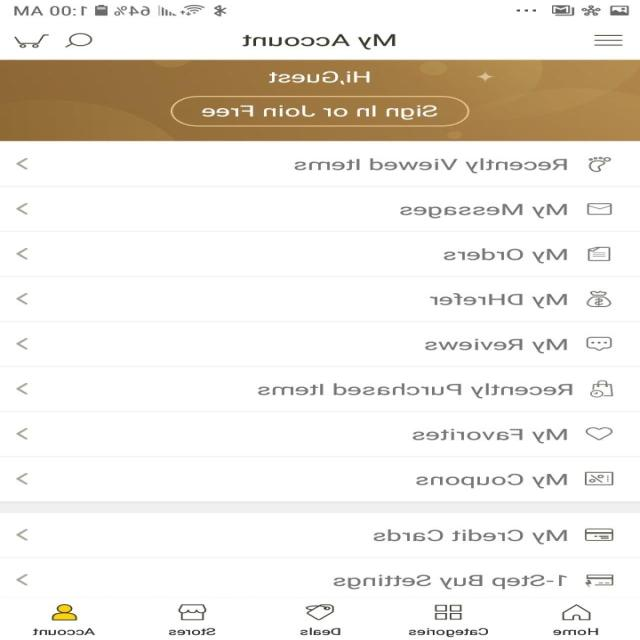Icon: (306, 603, 336, 620), (434, 603, 464, 620), (562, 603, 592, 620), (14, 34, 50, 48), (64, 32, 94, 48), (52, 604, 80, 620), (584, 471, 613, 486), (590, 380, 614, 398), (584, 574, 614, 588), (585, 426, 613, 441), (584, 528, 614, 541), (586, 336, 612, 351), (588, 246, 612, 261), (593, 34, 623, 46), (586, 202, 612, 215), (16, 157, 30, 170), (16, 202, 30, 215), (16, 292, 30, 305), (16, 382, 30, 395), (16, 427, 30, 440), (16, 472, 30, 485), (16, 528, 30, 541), (16, 337, 29, 350), (16, 248, 30, 260), (16, 573, 28, 586)
Image: (178, 603, 208, 620), (586, 290, 612, 307), (588, 156, 612, 173)
Text: (257, 382, 574, 399), (294, 158, 568, 173), (333, 574, 568, 590), (372, 528, 568, 544), (412, 427, 568, 444), (242, 33, 396, 50), (416, 472, 568, 489), (400, 203, 568, 218), (430, 292, 568, 309), (425, 338, 568, 354), (444, 248, 568, 263), (268, 70, 370, 85), (409, 627, 490, 637), (33, 627, 97, 635), (169, 627, 217, 635), (300, 626, 342, 635), (553, 627, 599, 635)
TextButton: (170, 95, 470, 126)
